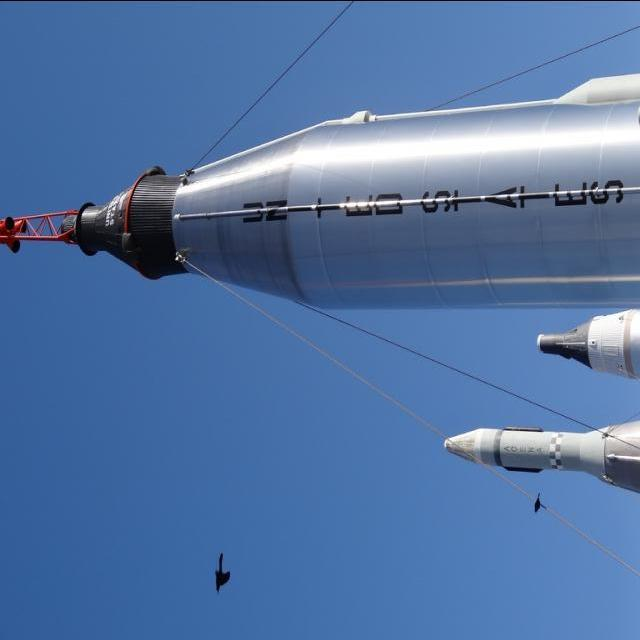missile: (0, 74, 640, 313), (428, 404, 640, 494)
